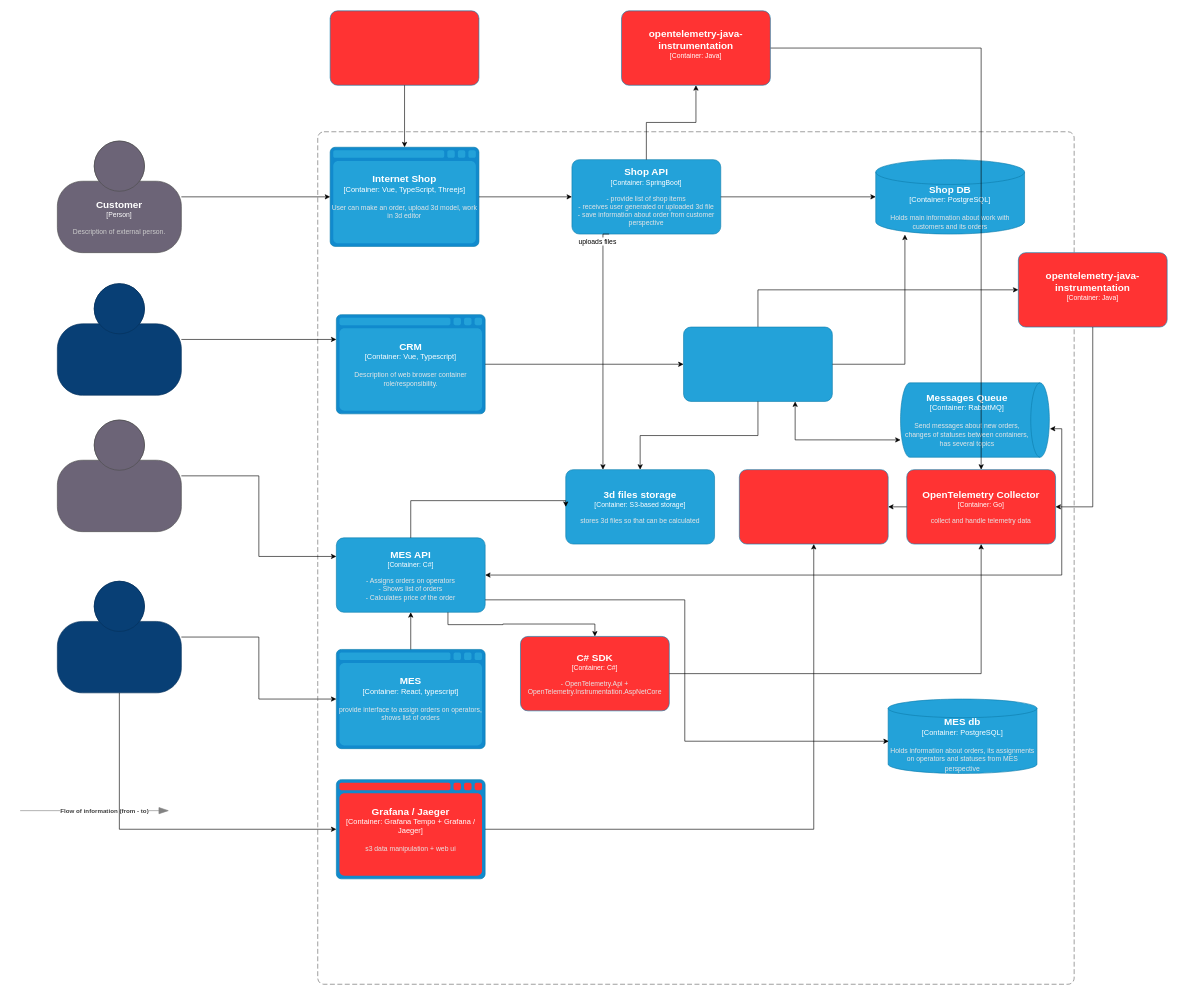
This 1178x995 diagram has some shape labels left out. The box of each missing label's shape, as (x1, y1, x2, y2) in pixels:
API user [Person] Description of external person.: (57, 419, 181, 532)
CRM API [Container: SpringBoot] Description of container role/responsibility.: (683, 326, 832, 401)
Jewerly Store System [Software System]: (317, 131, 1074, 984)
OpenTelemetry Web SDK [Container: JS]: (330, 10, 479, 85)
Operator [Person] Takes order in work, manufactures jewerly: (57, 581, 181, 693)
Seller [Person] Operates with order, confirms manufacturing for the user: (57, 283, 181, 395)
trace files storage [Container: S3-based storage] stores trace files: (739, 469, 888, 544)
